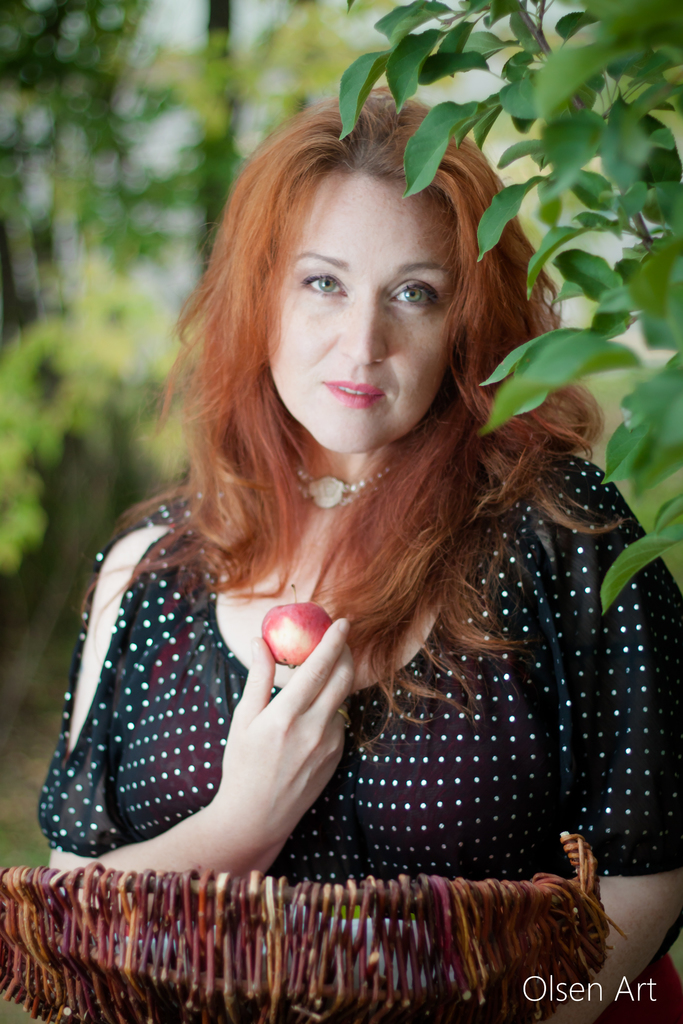Apple: (260, 607, 340, 685)
